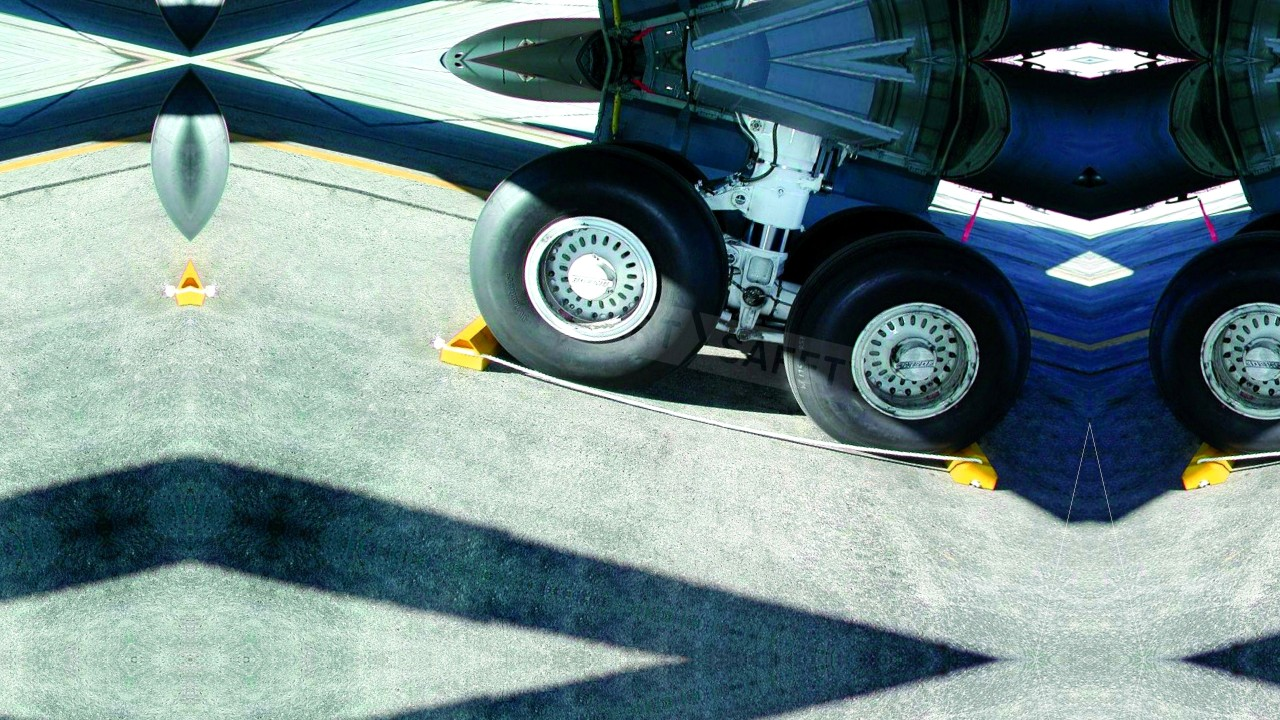chock: (439, 291, 517, 376), (936, 417, 1013, 495), (1167, 417, 1244, 495), (162, 222, 190, 308), (190, 222, 218, 308)
wheel: (446, 113, 749, 406), (761, 202, 1051, 476), (1129, 202, 1280, 476), (780, 186, 949, 315), (598, 130, 720, 189), (1231, 186, 1280, 315)
